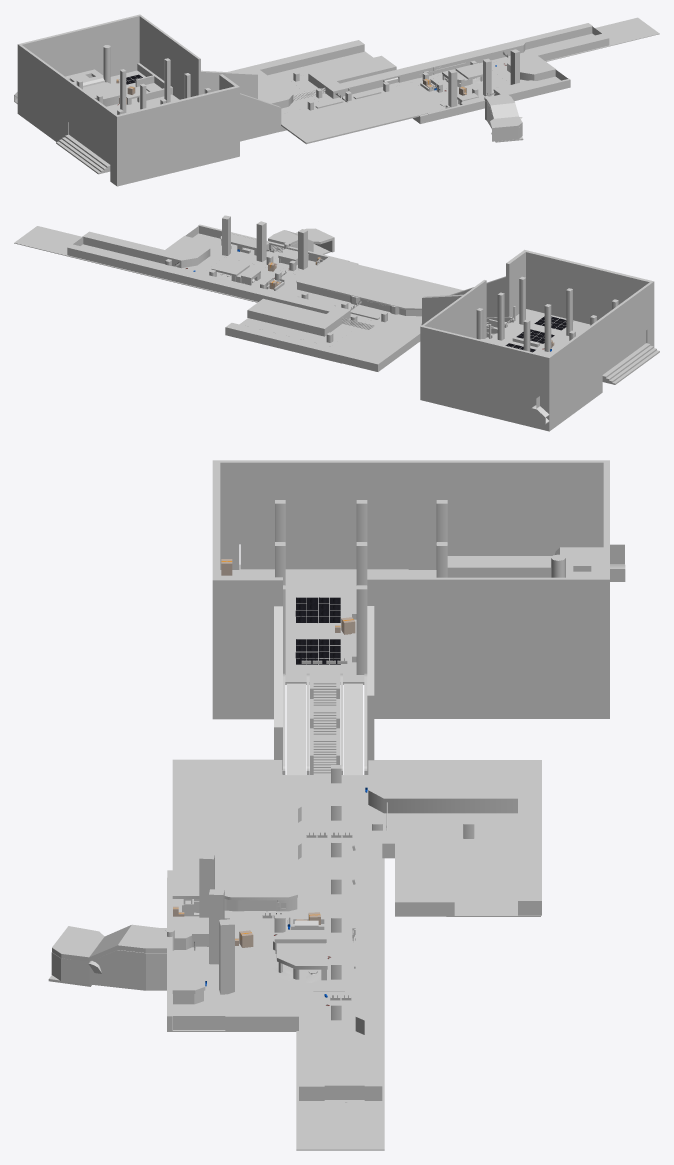
The model's file is stage1-1.FBX.
The picture shows the model from 3 angles, top to bottom: view 1: azimuth 30°, elevation 25°; view 2: azimuth 150°, elevation 25°; view 3: azimuth 270°, elevation 25°; orthographic projection. The views are drawn at different scales.
Parts seen in each view (by area): view 1: Box110, Box001, Box047, Box008, Box086, Box085, Box111, Box017, Box130, Box066, Box133, Box137 (+10 smaller); view 2: Box110, Box001, Box047, Box008, Box086, Box111, Box085, Box002, Box066, Box017, Box137, Box057 (+6 smaller); view 3: Box110, Box001, Box008, Box047, Box086, Box111, Box085, Box137, Box062, Box066, Box134, Box100 (+11 smaller).
Part boxes in pixels (<box>): Box110: <box>17,14,281,186</box>; Box001: <box>268,17,659,123</box>; Box047: <box>308,23,592,98</box>; Box008: <box>281,86,445,144</box>; Box086: <box>228,40,364,108</box>; Box085: <box>507,33,609,80</box>; Box111: <box>56,70,179,174</box>; Box017: <box>427,79,570,121</box>; Box130: <box>65,63,172,104</box>; Box066: <box>485,93,522,130</box>; Box133: <box>83,82,119,106</box>; Box137: <box>68,123,110,164</box>; Box110: <box>420,249,654,431</box>; Box001: <box>14,226,421,363</box>; Box047: <box>67,244,350,336</box>; Box008: <box>296,257,463,309</box>; Box086: <box>225,323,420,371</box>; Box111: <box>485,309,659,384</box>; Box085: <box>82,231,210,268</box>; Box002: <box>297,261,421,316</box>; Box066: <box>268,228,334,246</box>; Box017: <box>198,224,349,261</box>; Box137: <box>602,331,646,374</box>; Box057: <box>201,254,384,346</box>; Box110: <box>212,460,609,774</box>; Box001: <box>167,775,540,1150</box>; Box008: <box>172,759,297,900</box>; Box047: <box>355,830,454,1100</box>; Box086: <box>368,760,541,915</box>; Box111: <box>220,564,590,684</box>; Box085: <box>225,986,324,1100</box>; Box137: <box>240,544,408,569</box>; Box062: <box>51,950,166,990</box>; Box066: <box>52,924,166,961</box>; Box134: <box>447,556,551,577</box>; Box100: <box>313,681,336,774</box>.
Size of the model in its own units: 34826 by 4777 by 15095.
